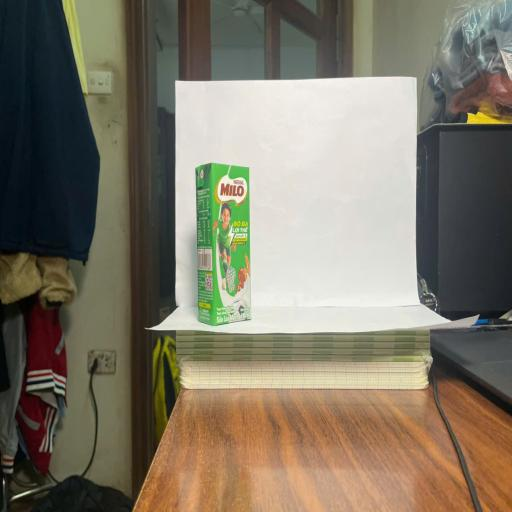milo: (196, 162, 251, 325)
